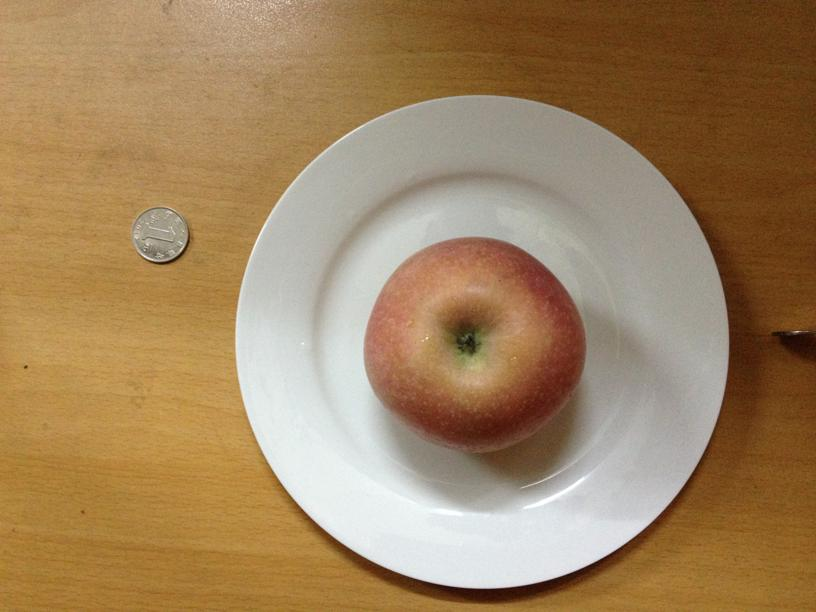apple: (358, 236, 585, 453)
coin: (132, 209, 190, 263)
